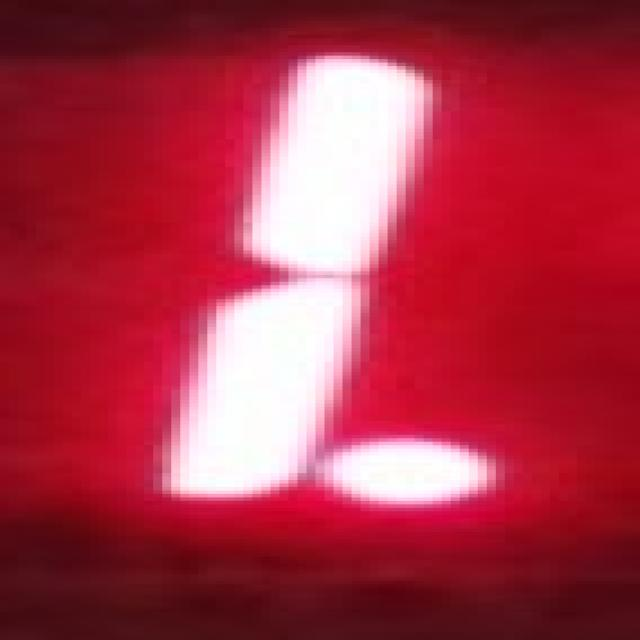.: (297, 433, 524, 512)
1: (110, 47, 456, 504)
